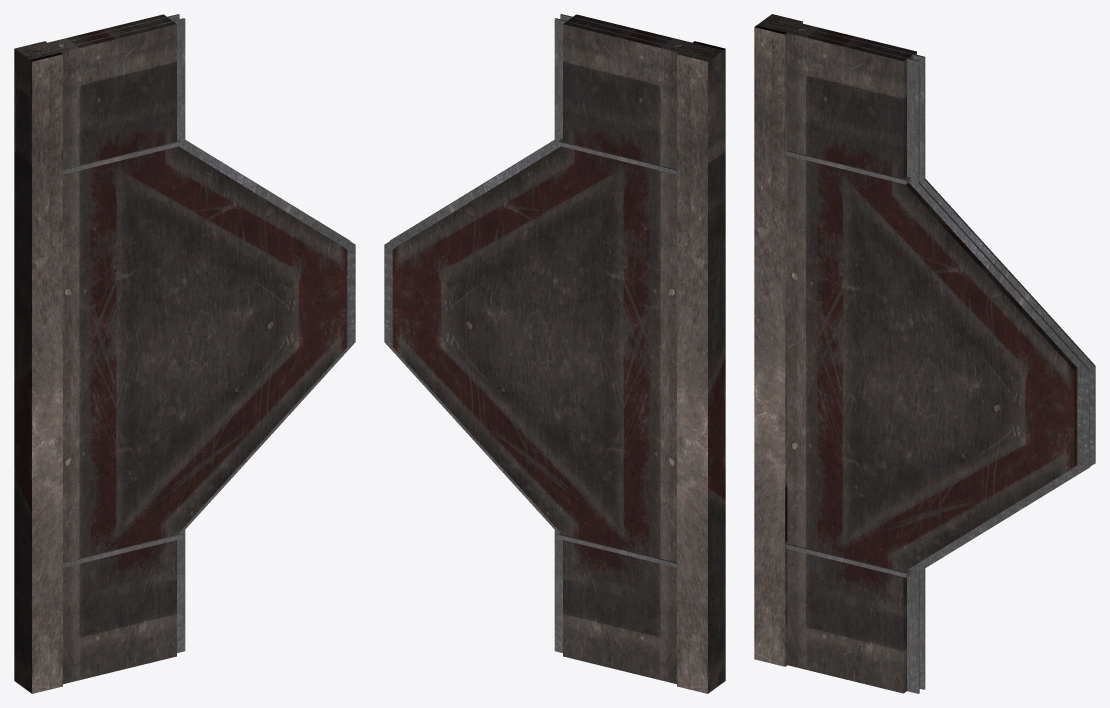
Rendered from heavydoor1.fbx.
The picture shows the model from 3 angles, left to right: view 1: azimuth 30°, elevation 25°; view 2: azimuth 150°, elevation 25°; view 3: azimuth 330°, elevation 25°; orthographic projection.
Parts seen in each view (by area): view 1: Scene_Root (×2); view 2: Scene_Root (×2); view 3: Scene_Root (×2).
Boxes of the visible parts, left/top/right/bottom form: Scene_Root (×2): left=14, top=14, right=355, bottom=693; Scene_Root (×2): left=384, top=14, right=725, bottom=693; Scene_Root (×2): left=754, top=14, right=1095, bottom=693.
Size of the model in its own units: 170 by 312 by 16.
Materials: 2 (2 with a texture image).
